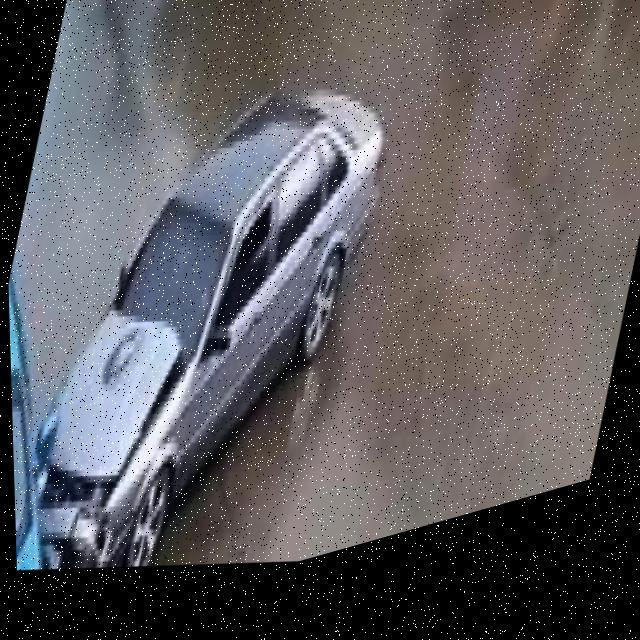Car Accident Detector - v4 Generation1 Exported: (2, 0, 418, 640)
